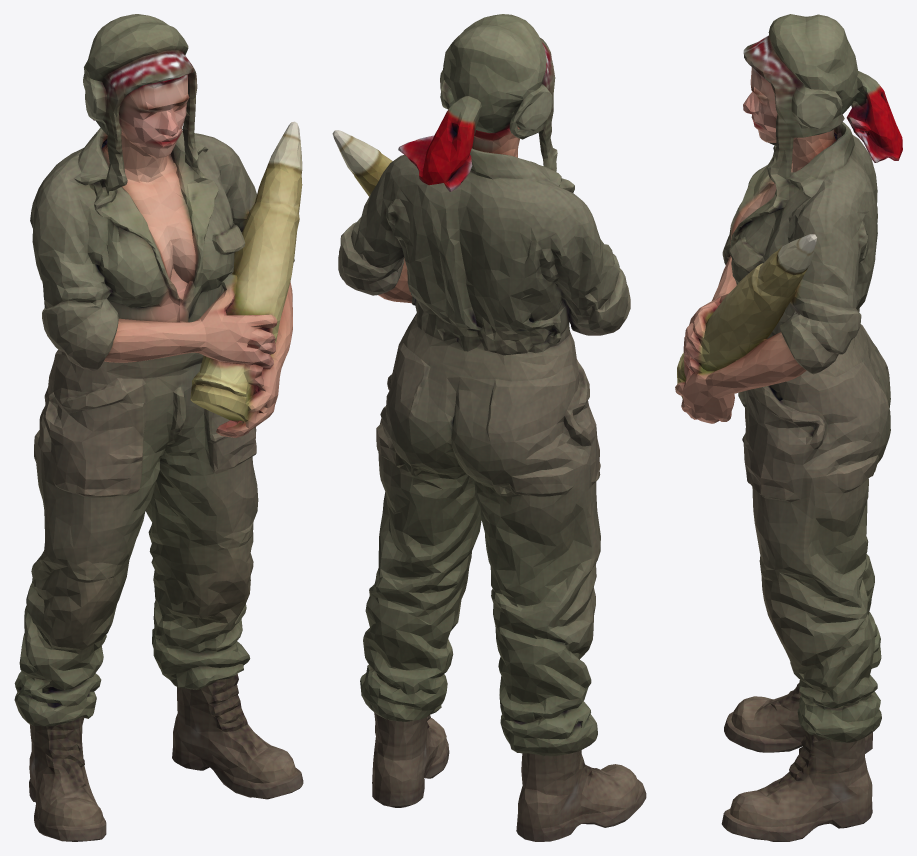
File: crew_us_loader_4.obj
The picture shows the model from 3 angles, left to right: view 1: azimuth 30°, elevation 25°; view 2: azimuth 150°, elevation 25°; view 3: azimuth 270°, elevation 25°; orthographic projection. The views are drawn at different scales.
Parts seen in each view (by area): view 1: crew_us_loader_4; view 2: crew_us_loader_4; view 3: crew_us_loader_4.
Boxes of the visible parts, x1,y1,x2,y2 form: crew_us_loader_4: (14, 14, 303, 841); crew_us_loader_4: (332, 14, 646, 841); crew_us_loader_4: (675, 14, 902, 841).
Size of the model in its own units: 0.628 by 1.68 by 0.4555.
Materials: 1 (1 with a texture image).
